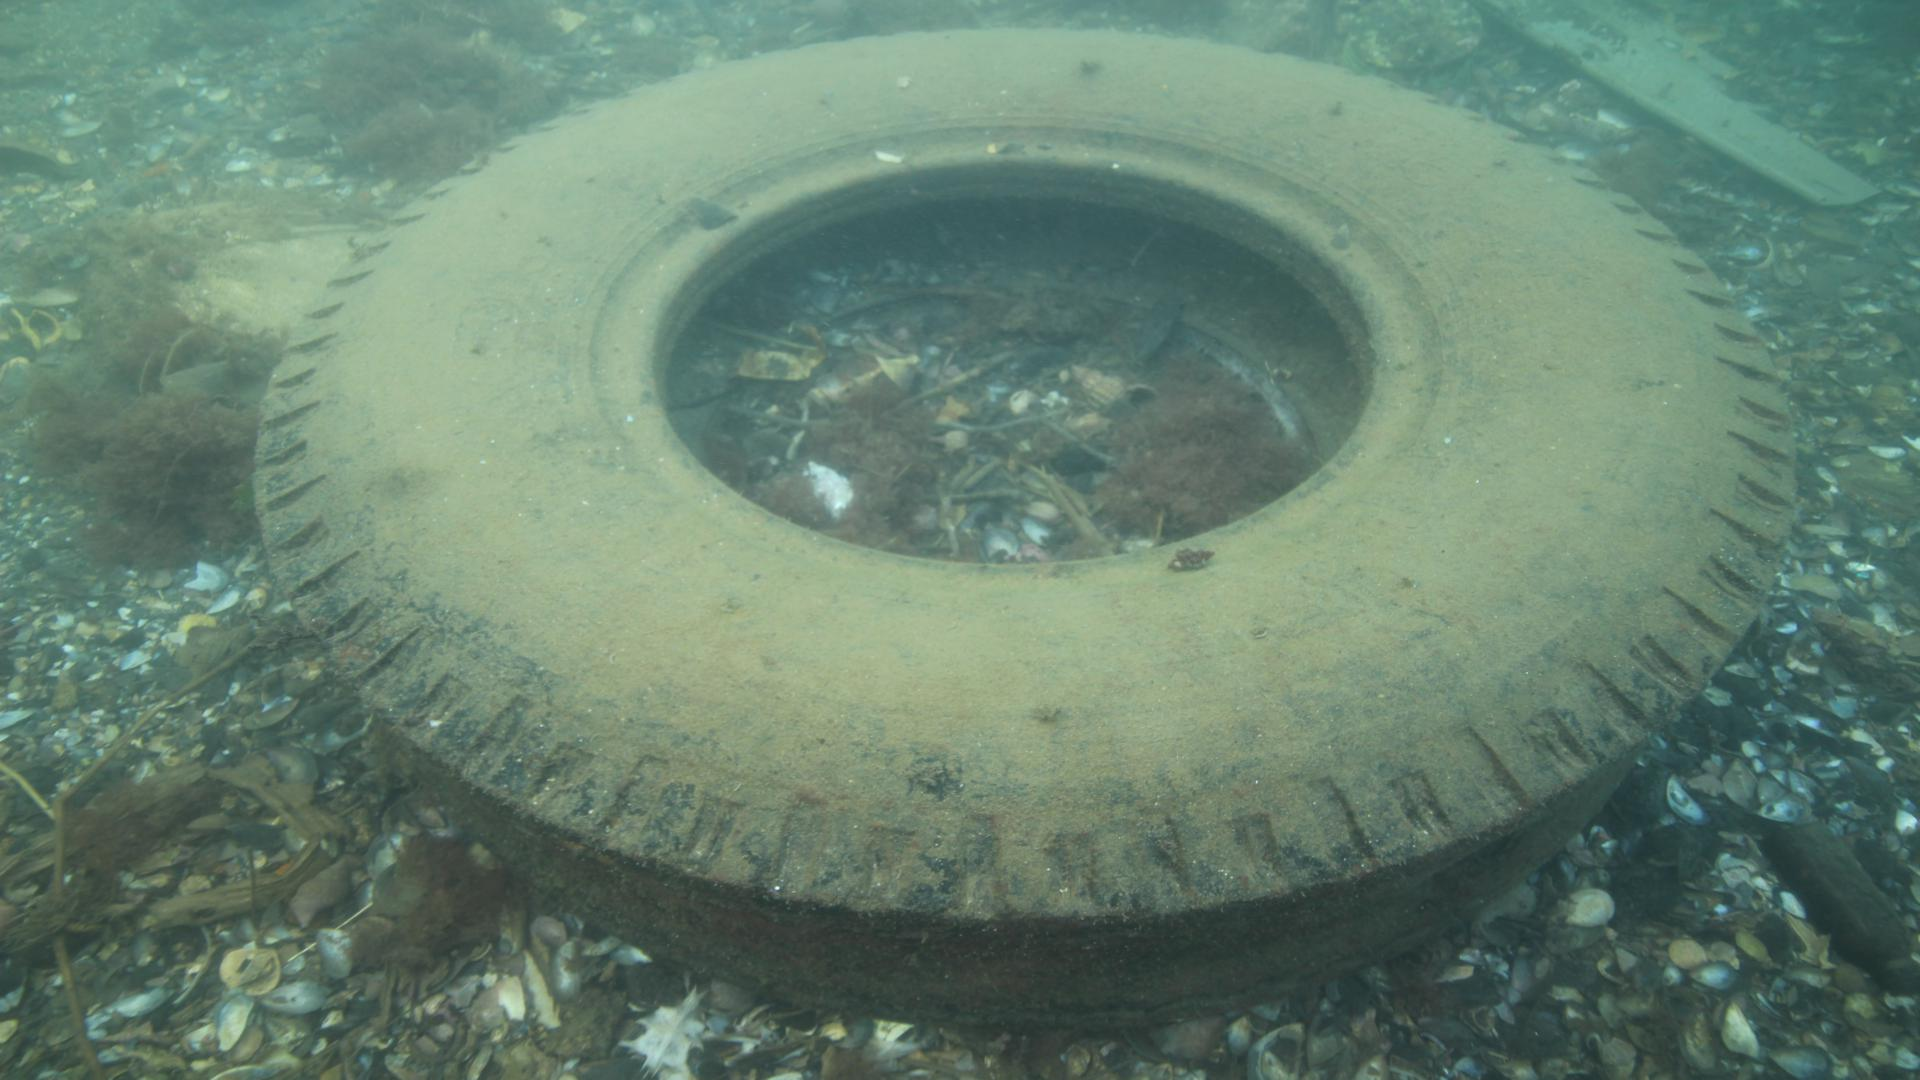tire: (249, 26, 1799, 1043)
